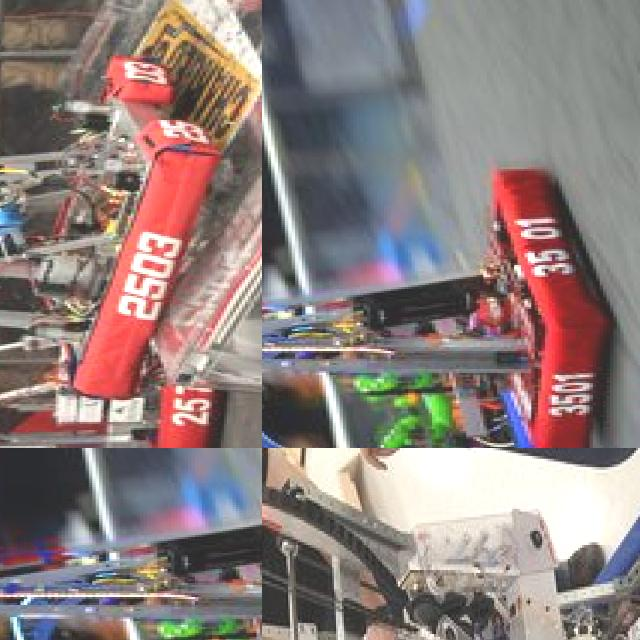FRC-Robots: (262, 181, 610, 444), (0, 43, 230, 396), (262, 448, 640, 640), (0, 448, 262, 640), (0, 363, 220, 448)
